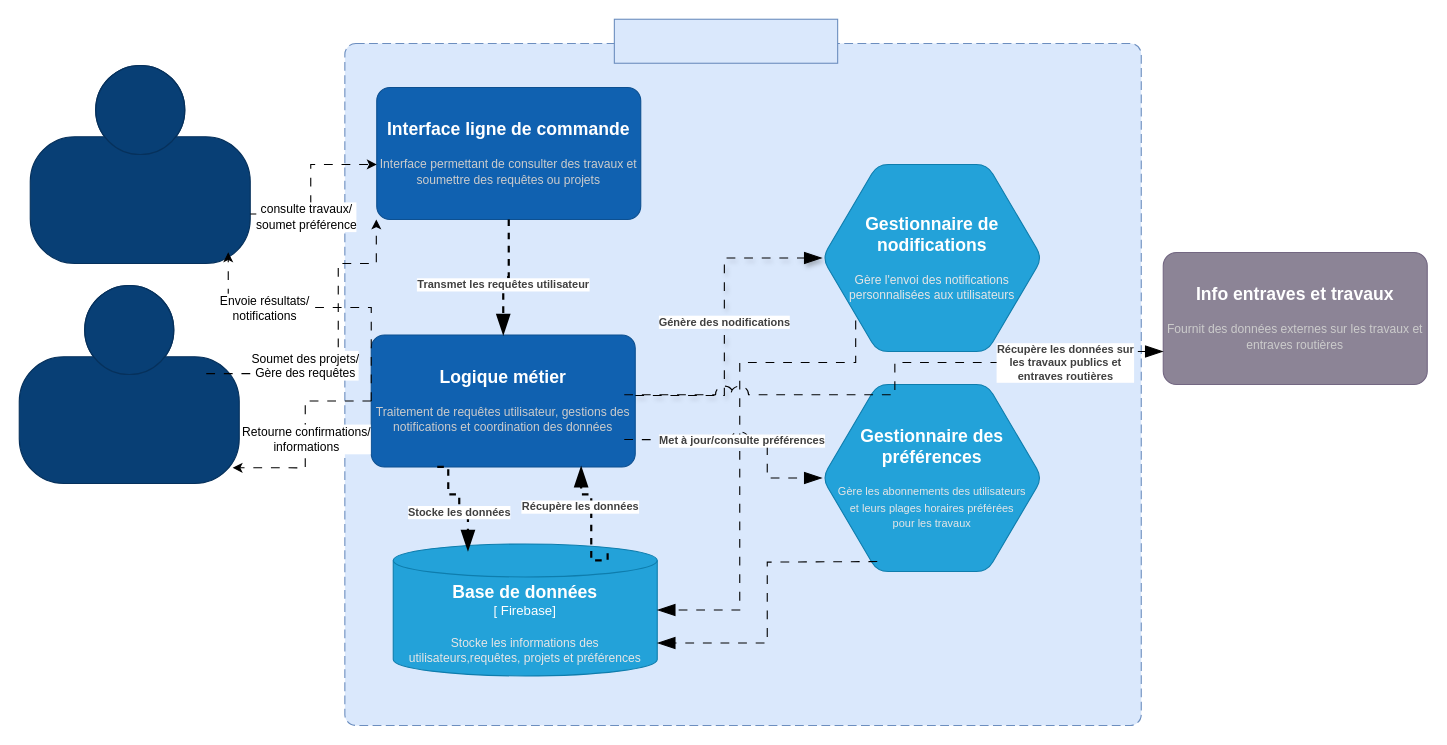
The diagram is 1447 pixels wide and 745 high, and some of its shapes have lost their labels. Here are the shapes that lost their labels. From the top down, the centre of each, then its label:
[725,40]: Système MaVille
[139,163]: Résident [Personne]
[128,383]: Intervenant [Personne]
